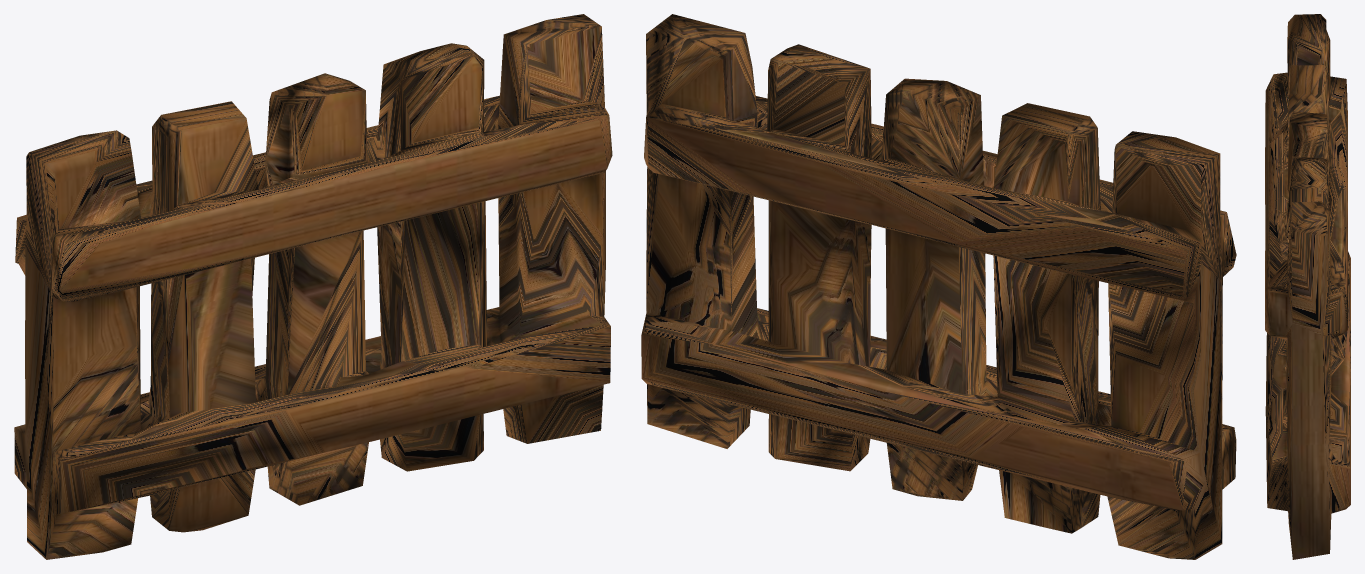
Rendered from meshy_fence_board_gate_lod1.glb.
3 views of the same model, side by side, from view 1: azimuth 30°, elevation 25°; view 2: azimuth 150°, elevation 25°; view 3: azimuth 270°, elevation 25° (orthographic). The views are drawn at different scales.
Bounding box in the file's own units: 2.01 × 1.4 × 0.3275.
1 material, 1 textured.
